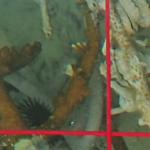alive: (6, 2, 146, 147)
